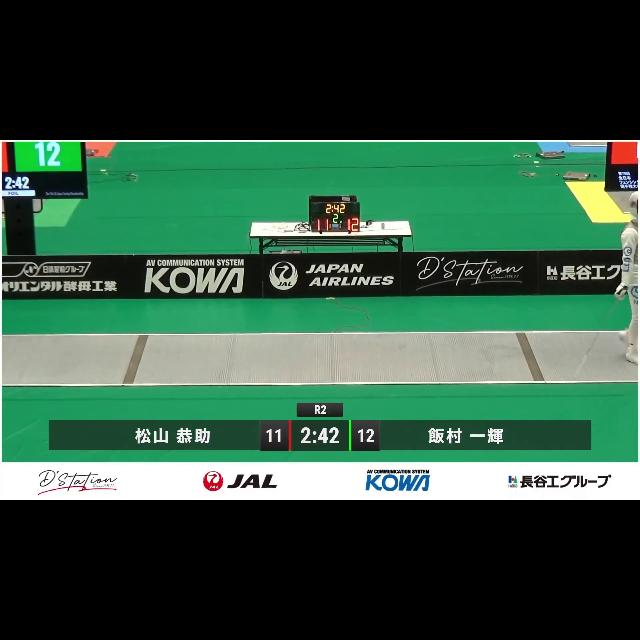blade: (572, 291, 624, 383)
